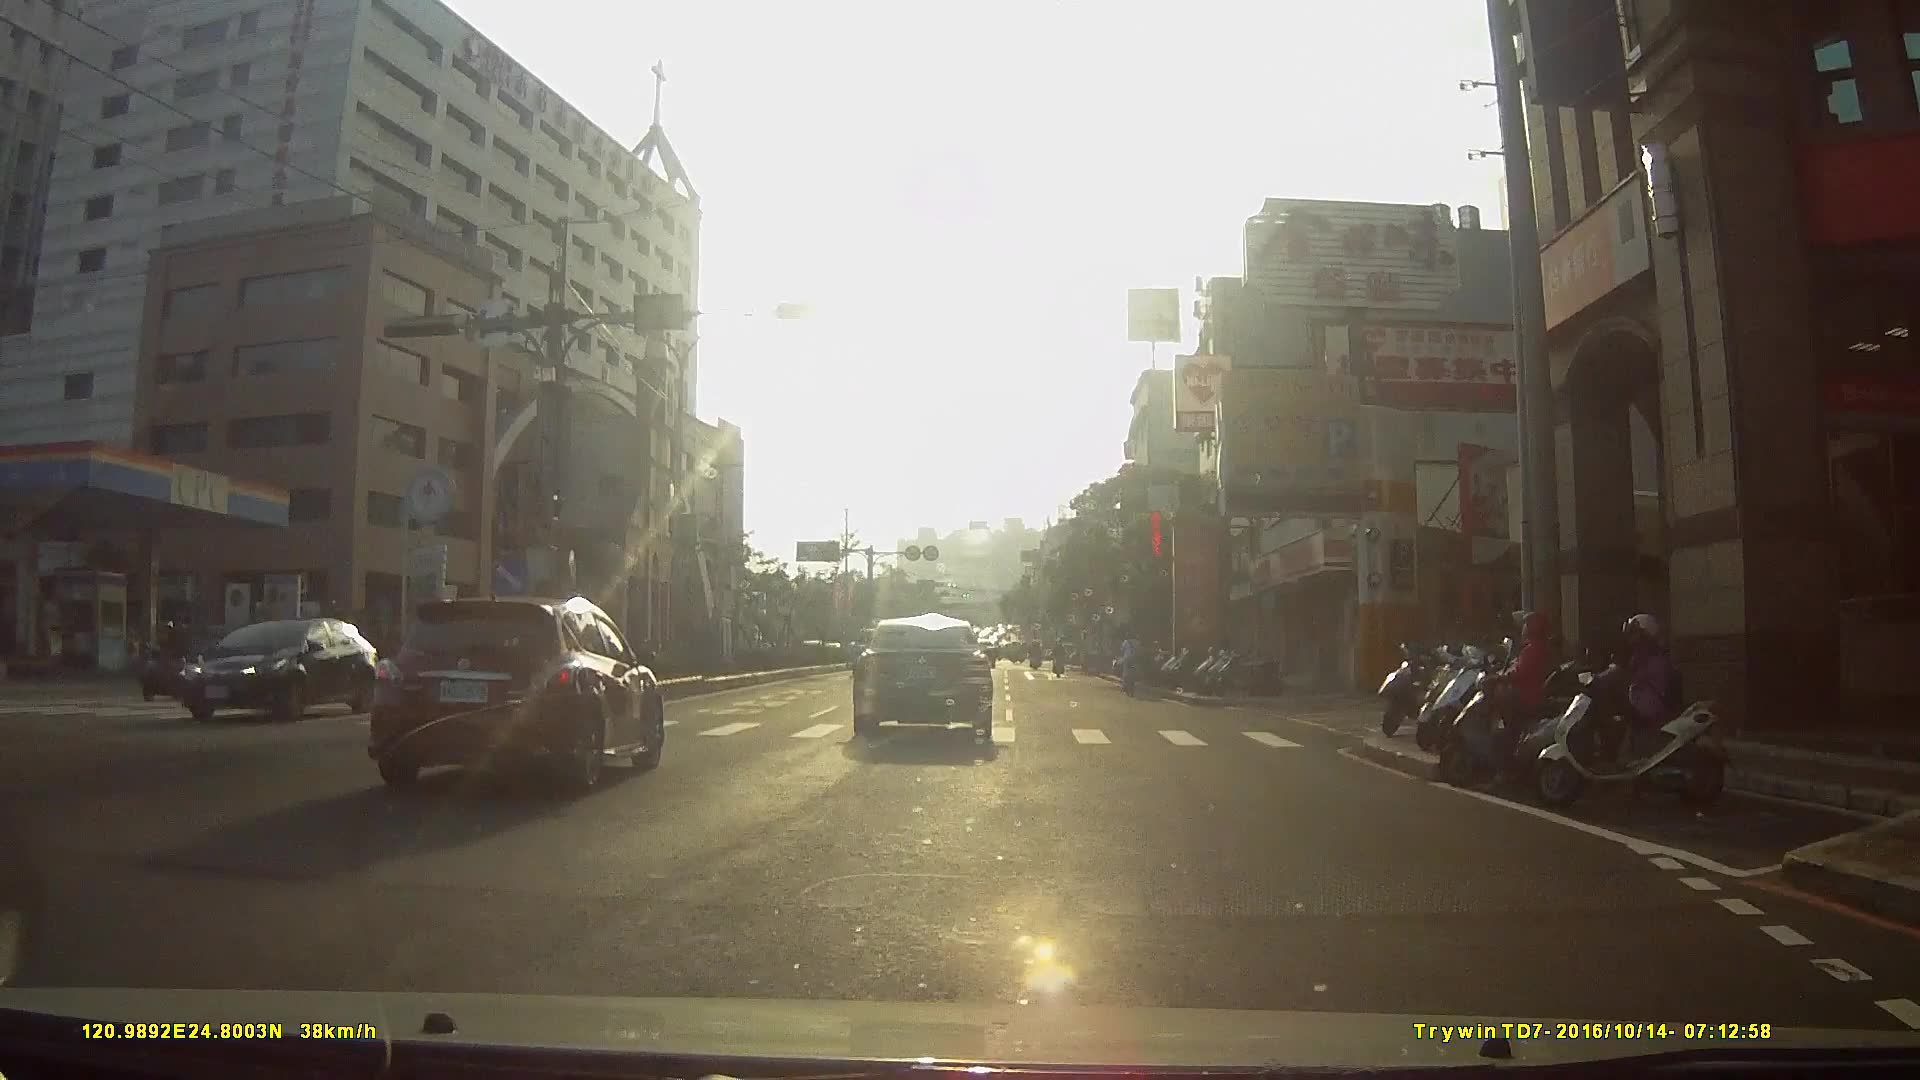rider: (1523, 609, 1740, 815), (1435, 600, 1627, 799), (139, 621, 184, 701), (1117, 628, 1146, 702)
vehicle: (370, 577, 677, 796), (171, 609, 395, 728), (846, 607, 1000, 739), (763, 607, 822, 662)
